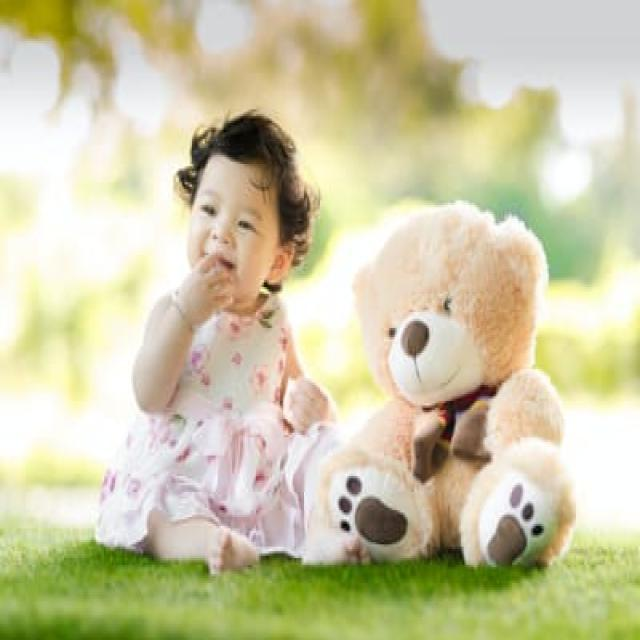non-dog: (84, 108, 357, 577), (312, 201, 578, 569)
